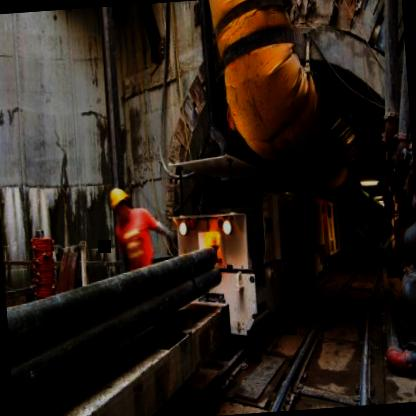helmet: (108, 184, 134, 221)
